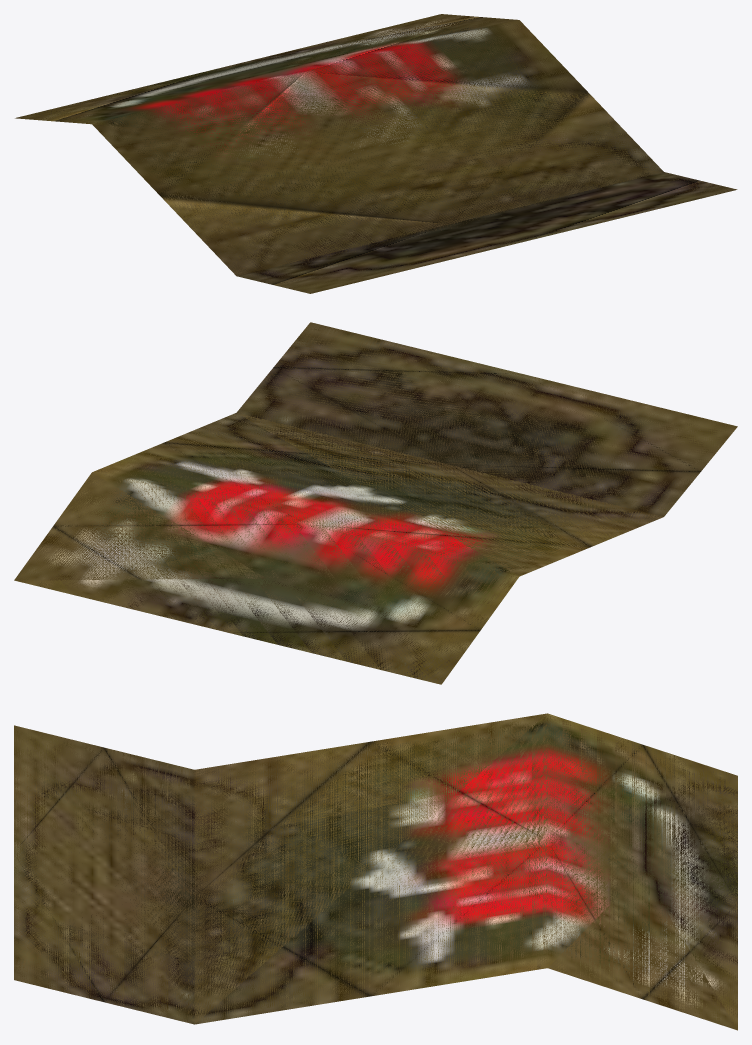
Rendered from ITSC_WATER10.glb.
3 renders of one model, top to bottom at view 1: azimuth 30°, elevation 25°; view 2: azimuth 150°, elevation 25°; view 3: azimuth 270°, elevation 25°, orthographic. The views are drawn at different scales.
Visible parts, largest first — view 1: Mesh; view 2: Mesh; view 3: Mesh.
Part boxes in pixels (left/top/right/bottom): Mesh: left=15, top=14, right=737, bottom=293; Mesh: left=14, top=322, right=737, bottom=684; Mesh: left=14, top=713, right=737, bottom=1030.
Bounding box in the file's own units: 0.46 × 0.0525 × 0.5524.
1 material, 1 textured.
